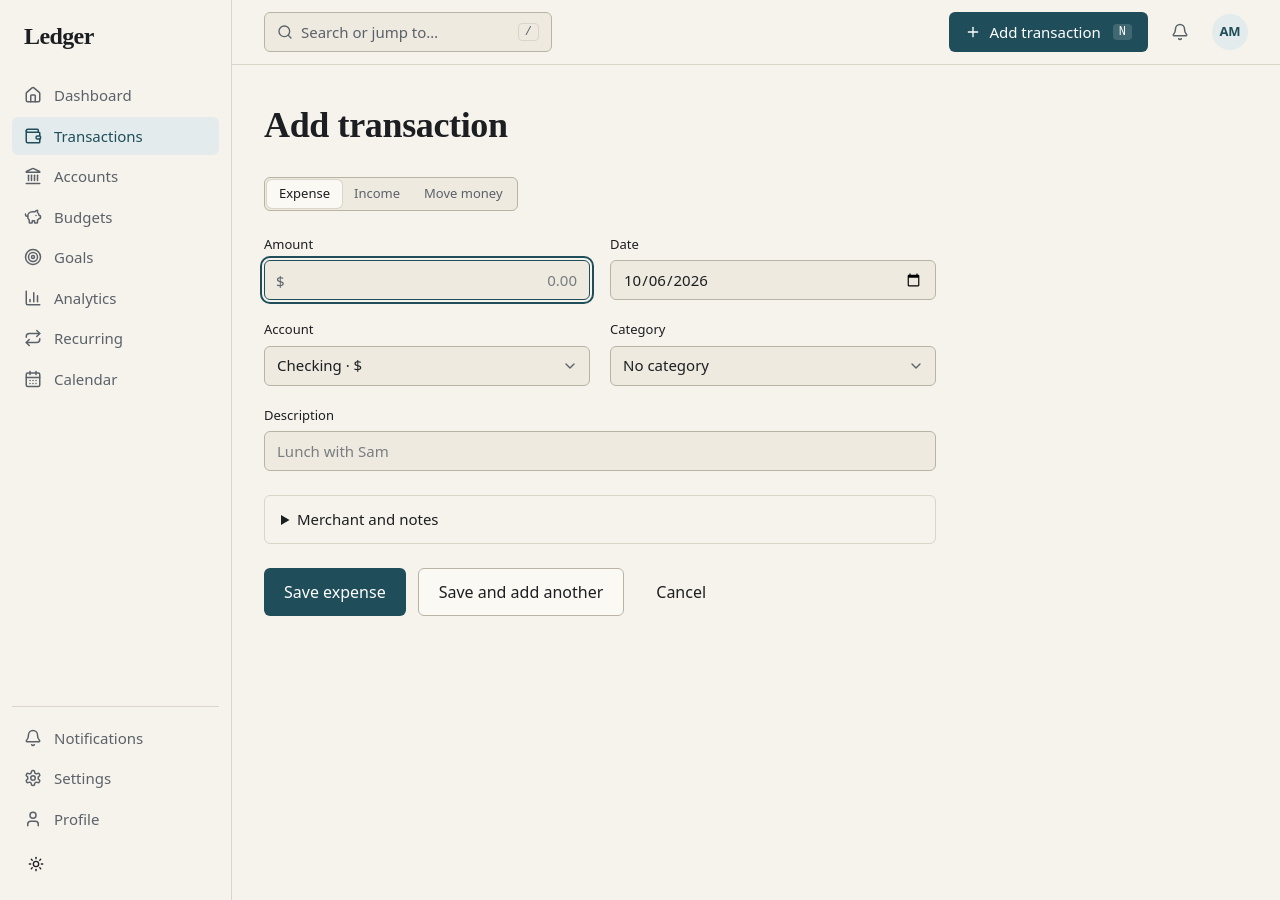
Test: add transaction › saves an expense in exact minor units, with the account currency
The width and height of the screenshot is (1280, 900).
Type "12.50" into the field labelled "Amount" at x=427, y=280, box [264,260,590,300]
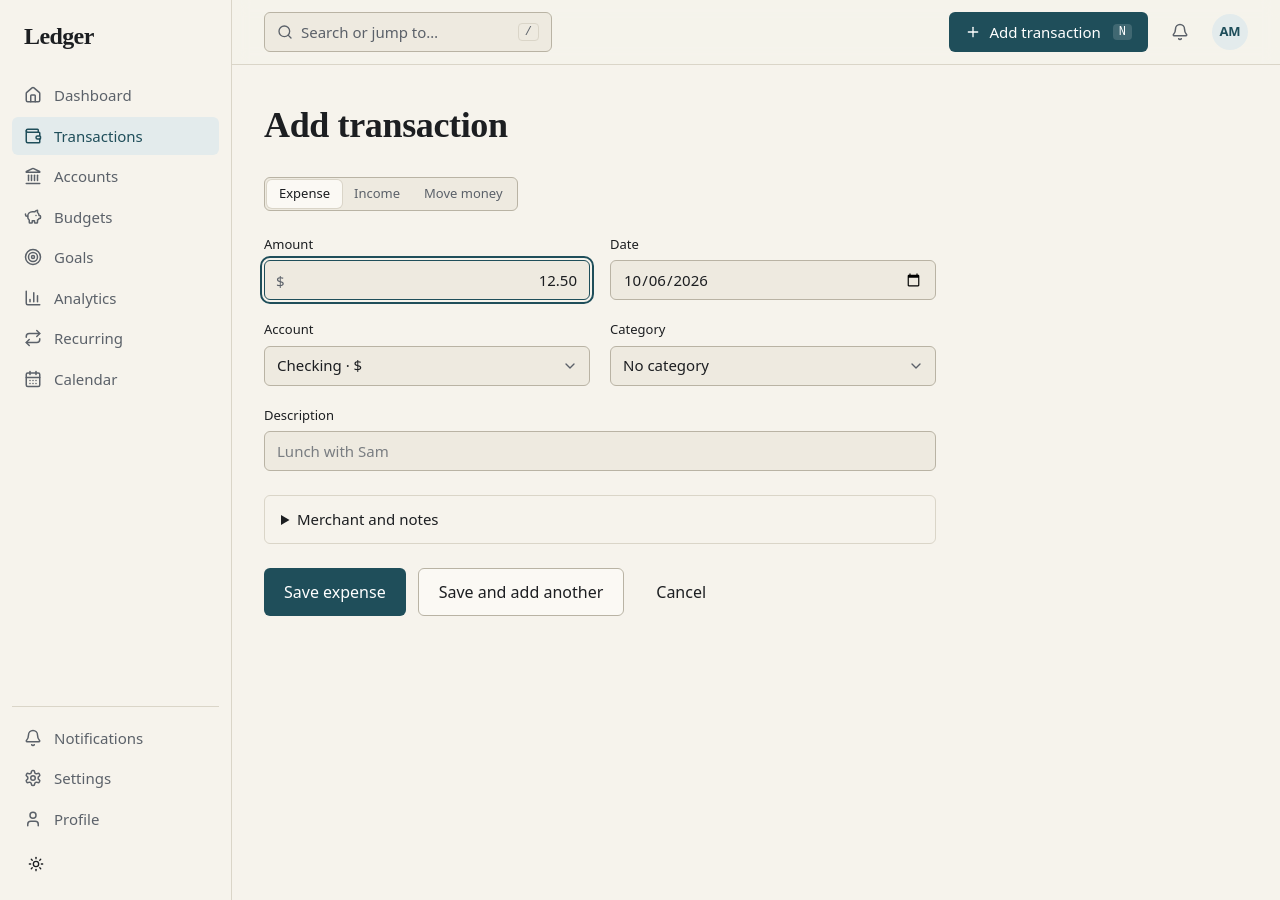
Select "Coffee" in the dropdown labelled "Category" at x=773, y=366, box [610,346,936,386]
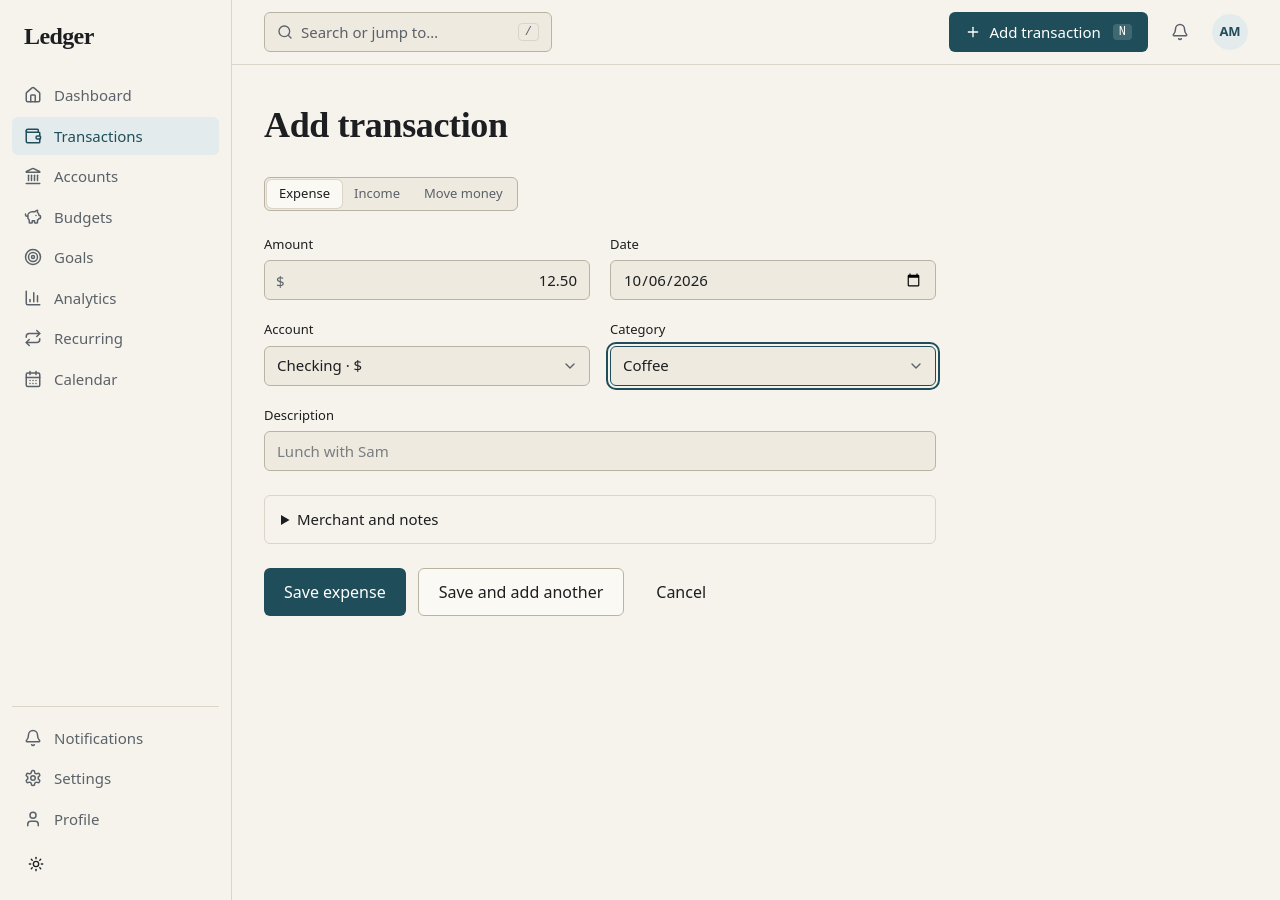
Type "Flat white" into the field labelled "Description" at x=600, y=451, box [264,431,936,471]
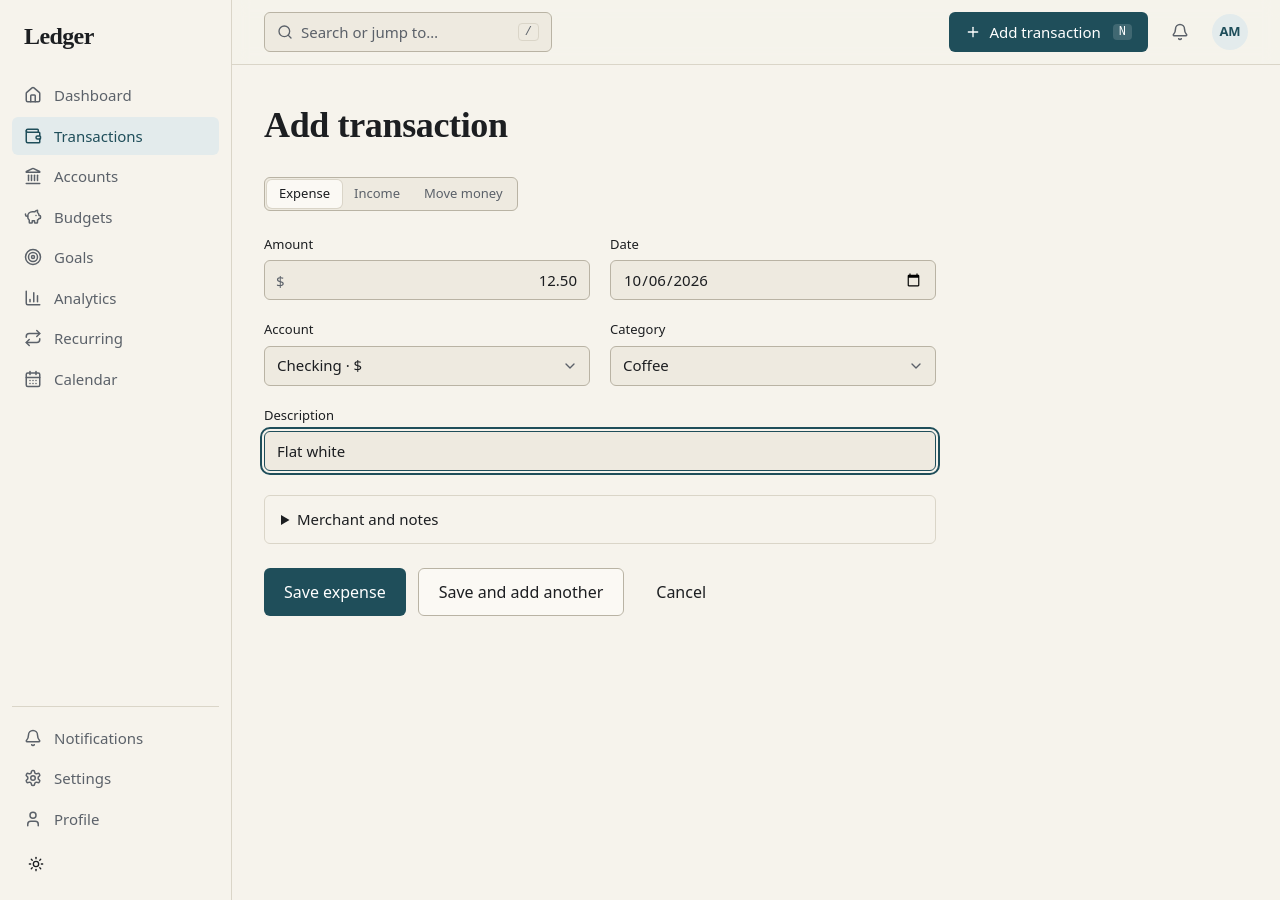
Click the button "Save expense" at x=335, y=592, box [264,568,406,616]
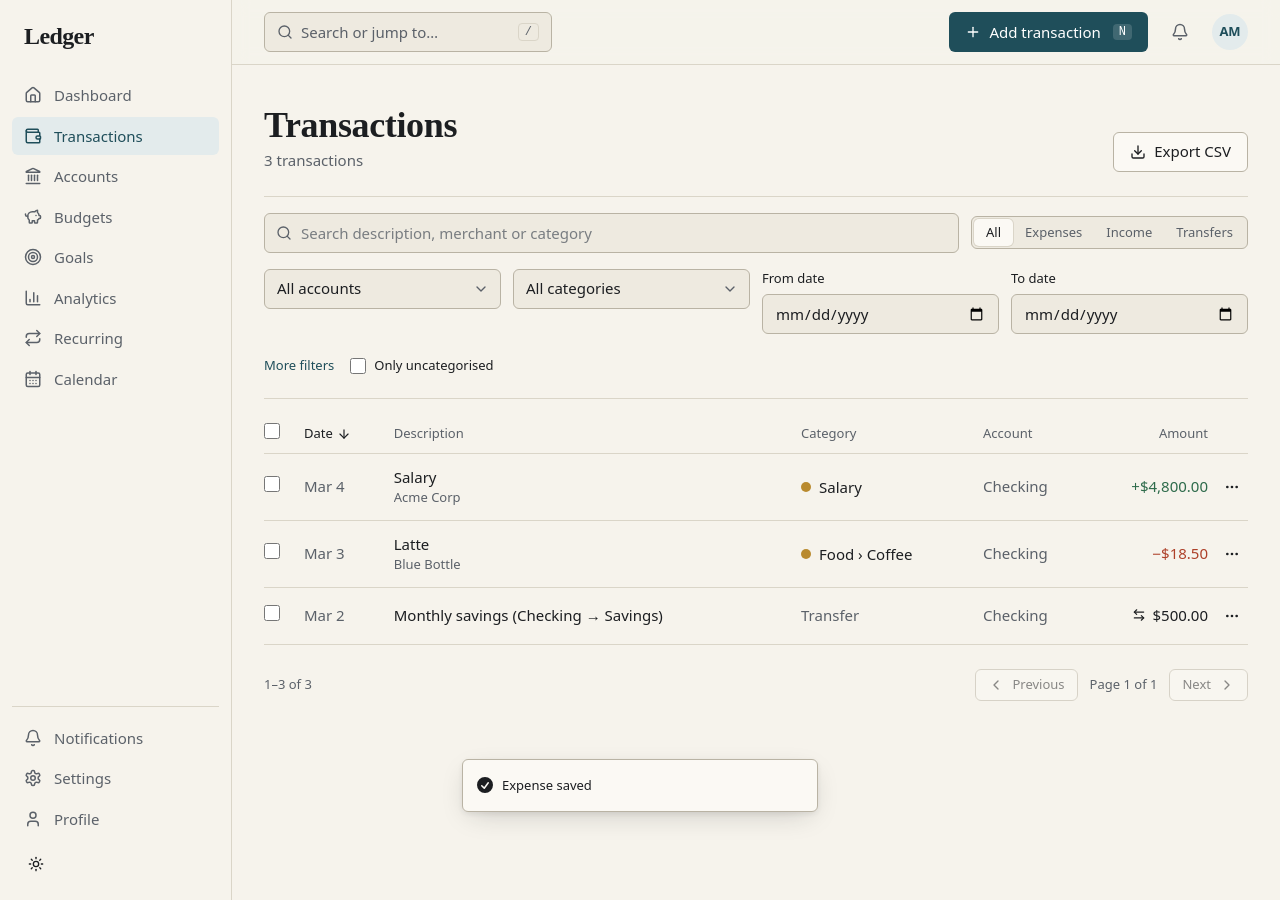
Result: the text "Expense saved" is shown at [502,776,592,795]
